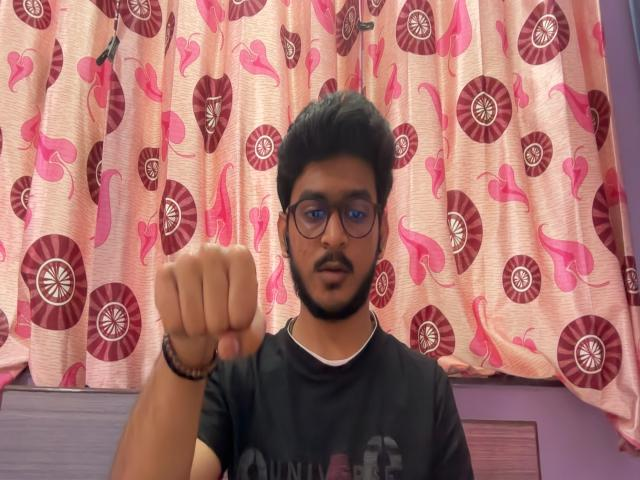Yes: (151, 236, 276, 374)
